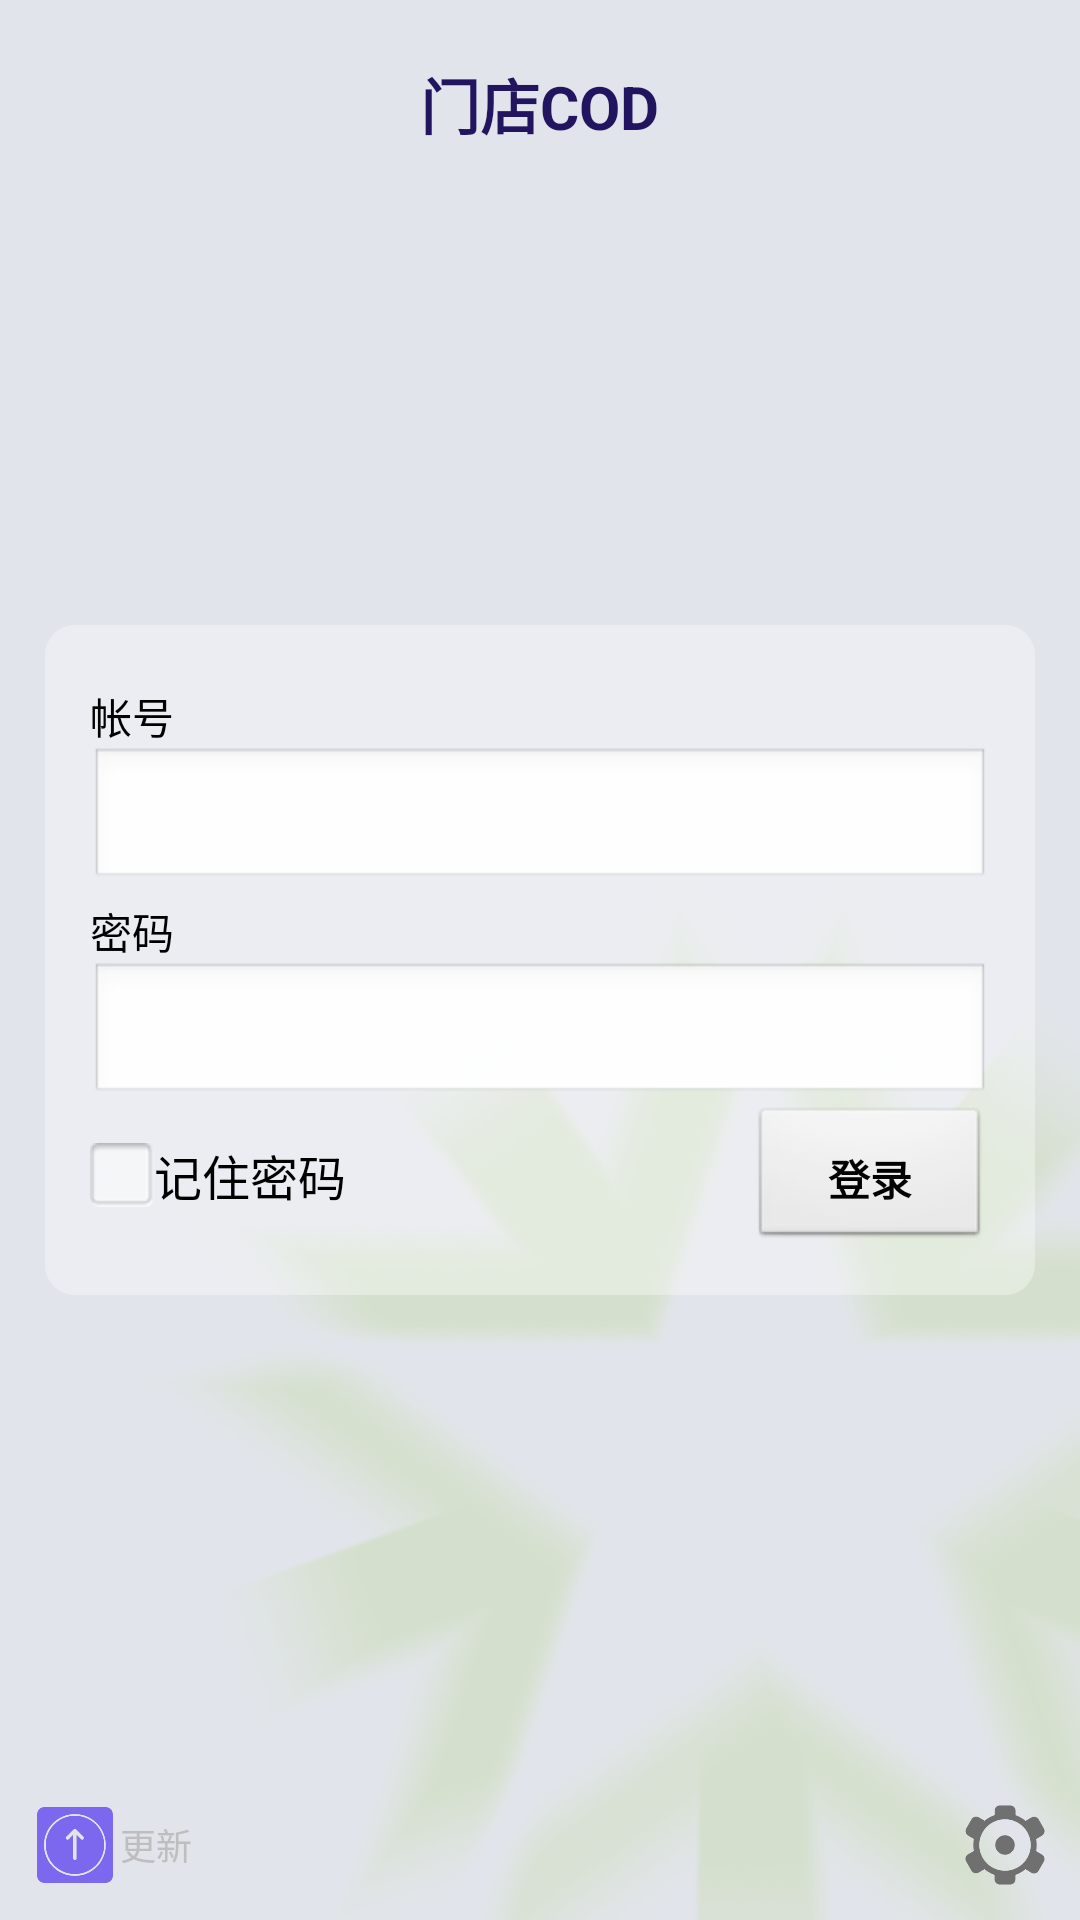

Where to tap for icons on this 1080w x 1920h app screen, as (x=x, y=y):
setting: (x=1002, y=1847)
